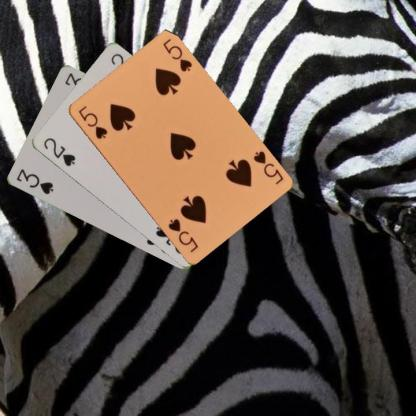2s: (40, 135, 77, 168)
3s: (13, 166, 55, 196)
5s: (250, 148, 284, 186), (75, 103, 109, 140)
